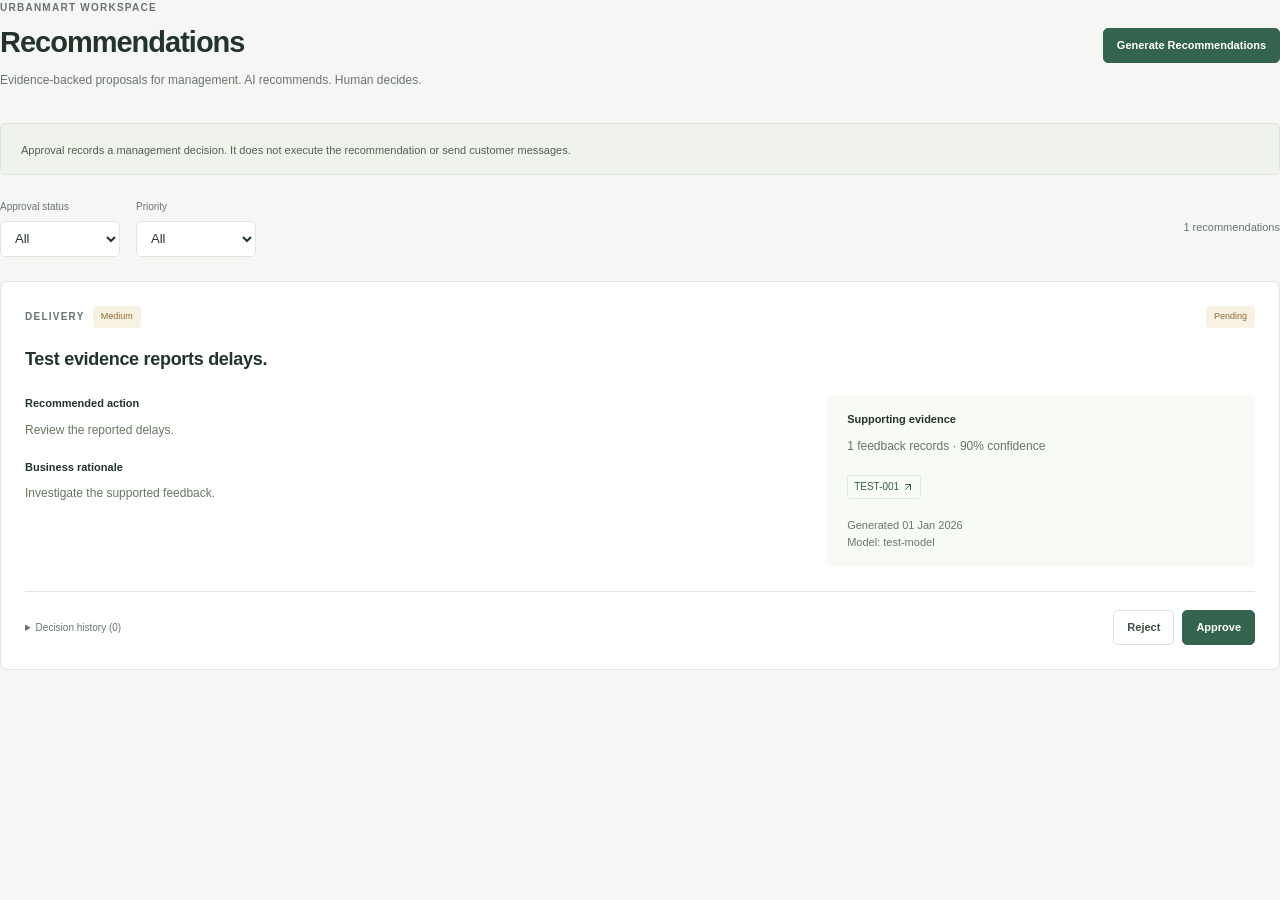
Scenario: Workspace › keeps a failed approval visible for retry
This screenshot has width=1280, height=900.
Click the button "Approve" at point(1219, 627), box [1182, 610, 1255, 645]
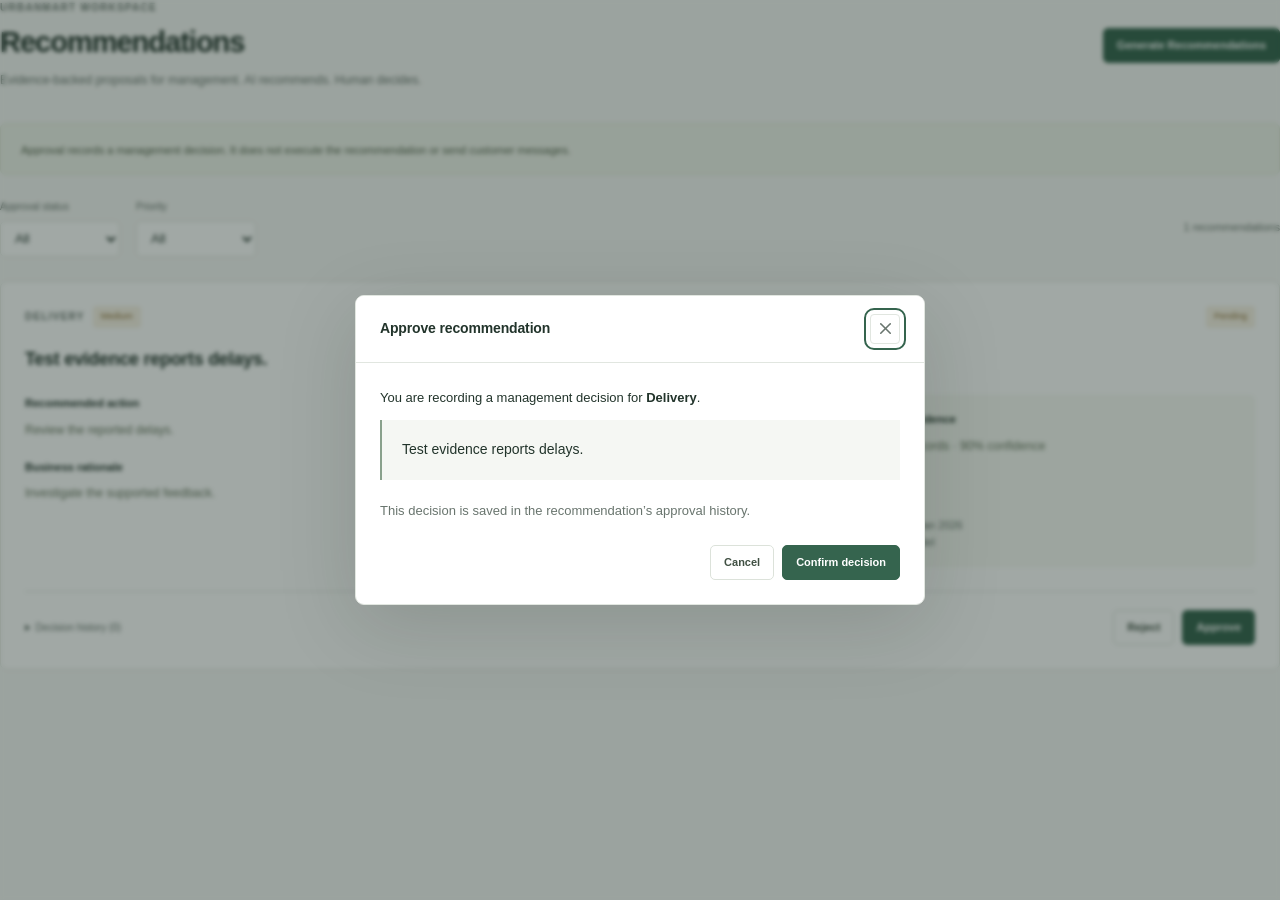
Click the button "Confirm decision" at point(841, 562), box [782, 545, 900, 580]
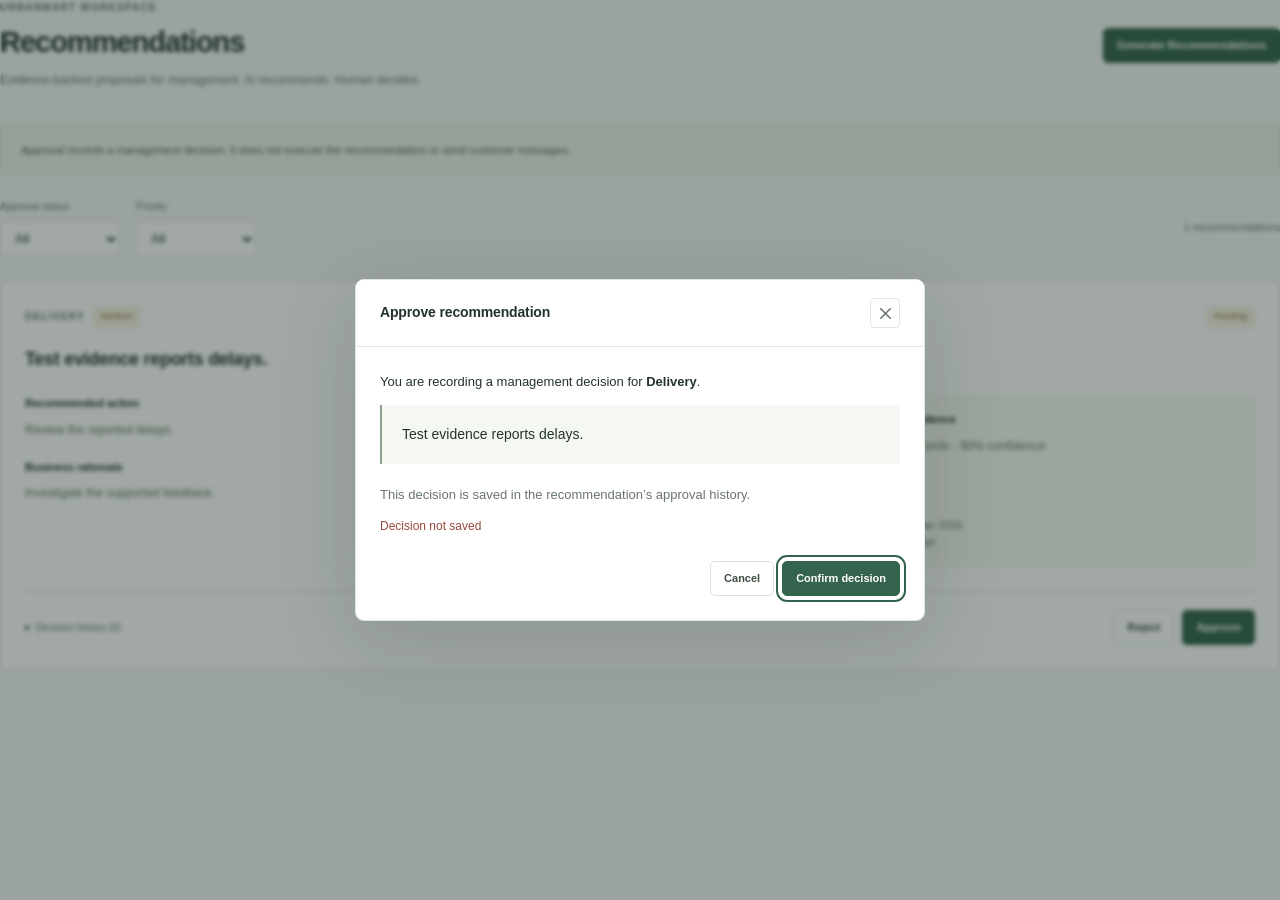
expect the dialog is shown: met, box [355, 279, 925, 621]
expect the message reads "Decision not saved": met, box [380, 519, 481, 533]
